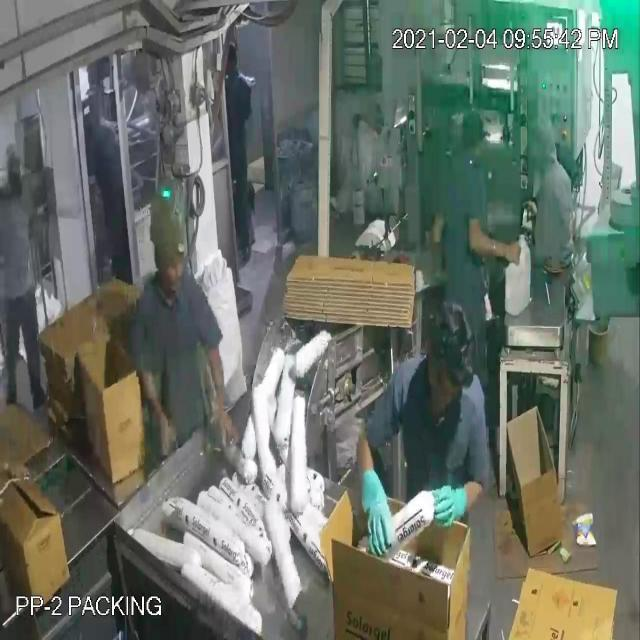No_Gloves: (38, 63, 494, 514)
